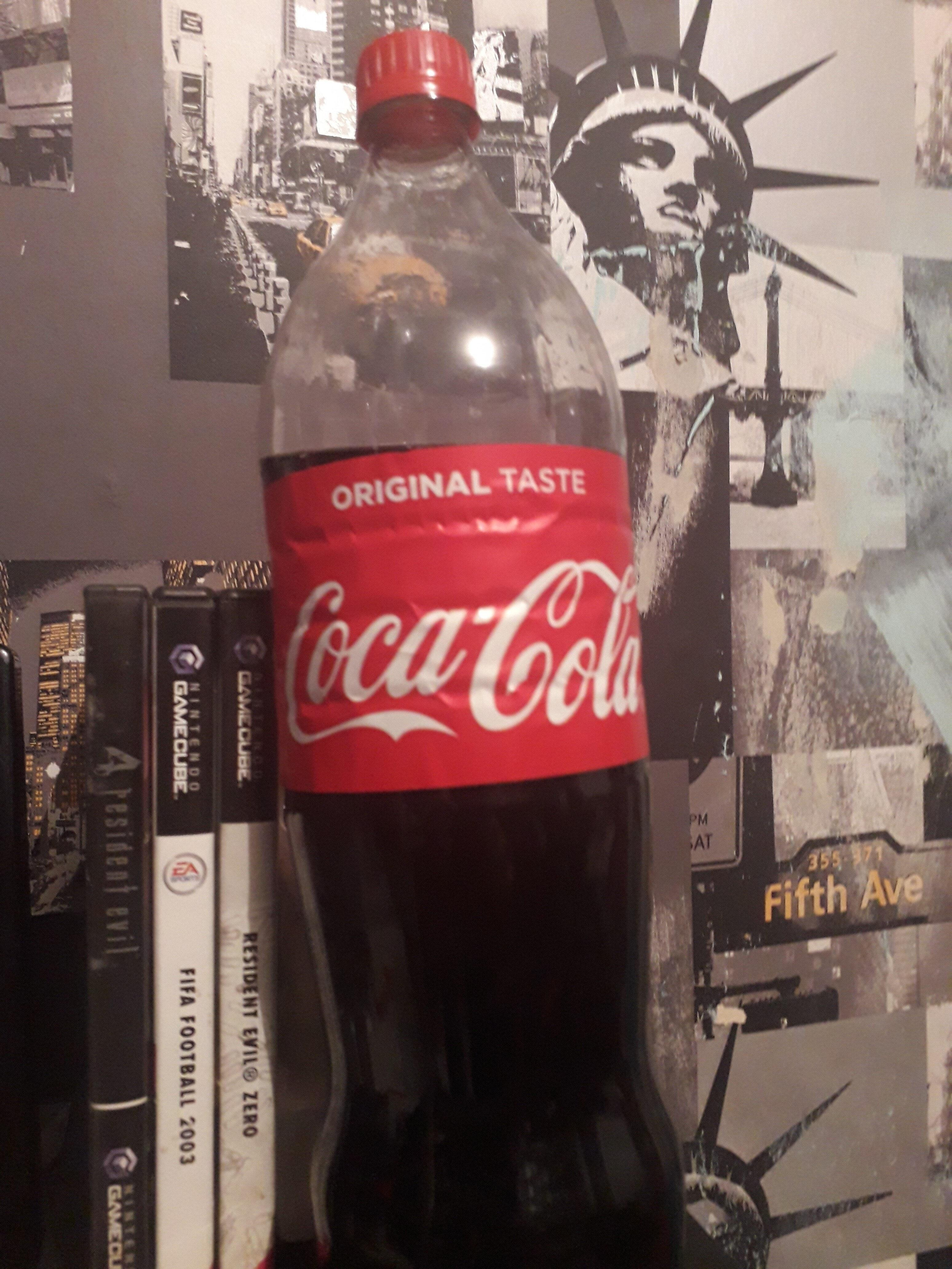bottle-plastic: (246, 0, 694, 1269)
